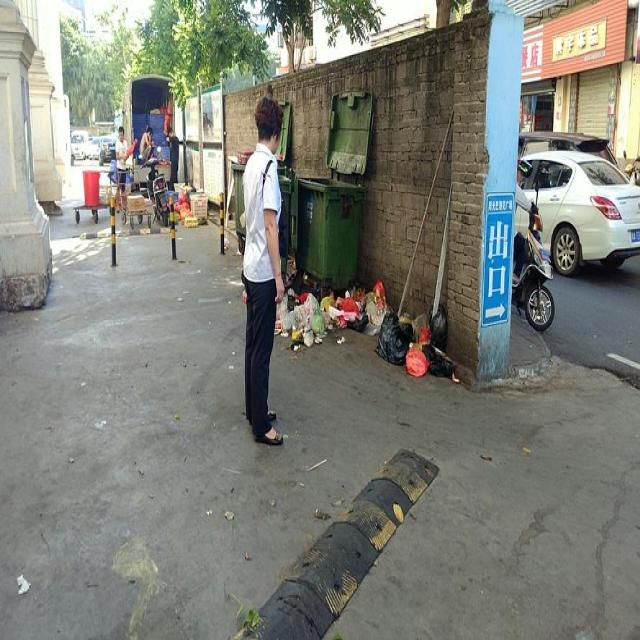garbage: (273, 270, 453, 376)
garbage_bin: (299, 174, 361, 286)
